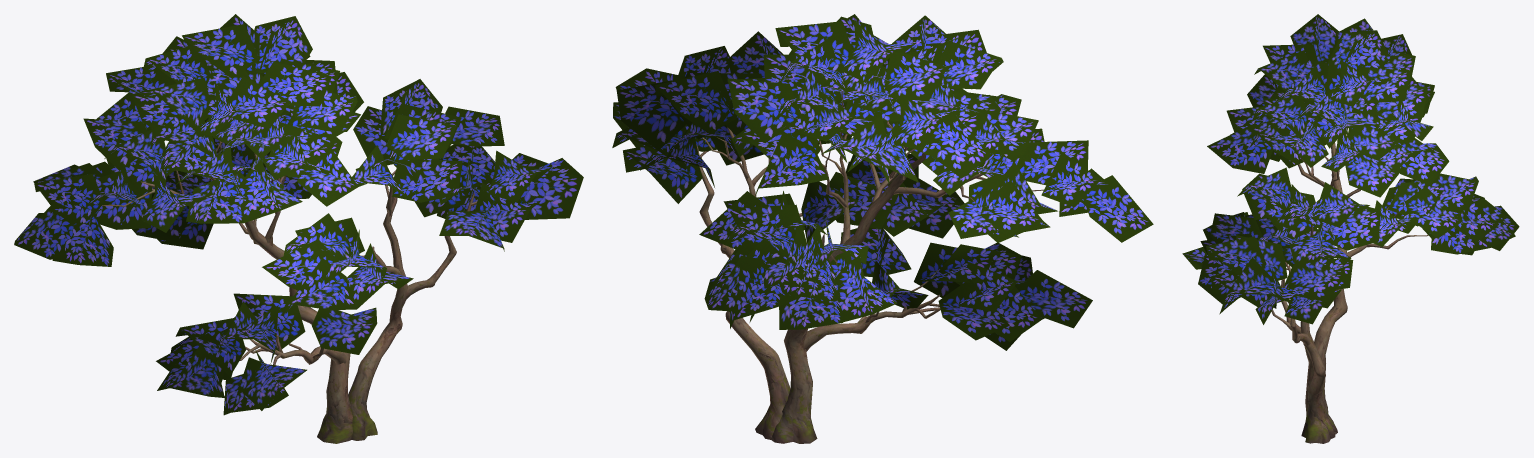
The model's file is Homeworld_Exterior_Dq_Plant_Pt_09_Lod0.fbx.
3 views of the same model, side by side, from view 1: azimuth 30°, elevation 25°; view 2: azimuth 150°, elevation 25°; view 3: azimuth 270°, elevation 25° (orthographic). The views are drawn at different scales.
Visible parts, largest first — view 1: Area_Dq_Tree_Common_Fs_02_01_Leaf_Lod0, Area_Dq_Tree_Common_Fs_02_01_Bark_Lod0; view 2: Area_Dq_Tree_Common_Fs_02_01_Leaf_Lod0, Area_Dq_Tree_Common_Fs_02_01_Bark_Lod0; view 3: Area_Dq_Tree_Common_Fs_02_01_Leaf_Lod0, Area_Dq_Tree_Common_Fs_02_01_Bark_Lod0.
Part boxes in pixels (x1,y1,x2,y2): Area_Dq_Tree_Common_Fs_02_01_Leaf_Lod0: [14, 14, 583, 415]; Area_Dq_Tree_Common_Fs_02_01_Bark_Lod0: [102, 132, 477, 443]; Area_Dq_Tree_Common_Fs_02_01_Leaf_Lod0: [612, 14, 1153, 350]; Area_Dq_Tree_Common_Fs_02_01_Bark_Lod0: [696, 91, 1043, 443]; Area_Dq_Tree_Common_Fs_02_01_Leaf_Lod0: [1182, 14, 1519, 324]; Area_Dq_Tree_Common_Fs_02_01_Bark_Lod0: [1249, 128, 1428, 443].
Size of the model in its own units: 14.04 by 10.69 by 9.19.
